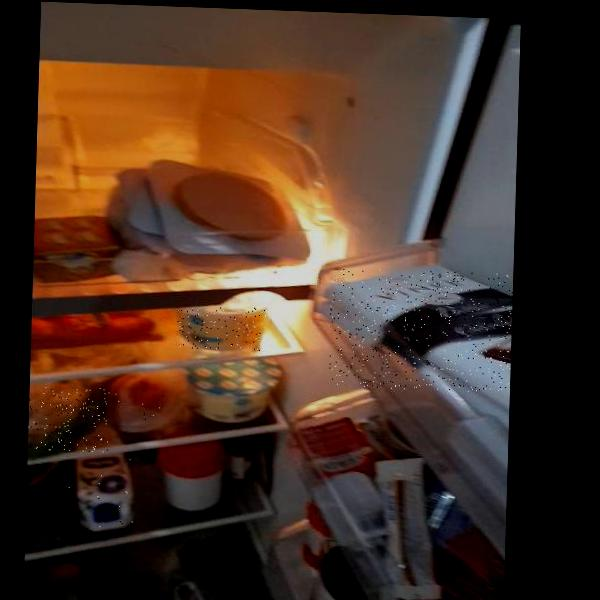carrot: (31, 312, 161, 349)
chocolate: (327, 268, 513, 393)
green chilies: (28, 386, 110, 452)
milk: (66, 455, 138, 531)
tomato: (110, 379, 171, 421)
yoghurt: (176, 304, 267, 351)
